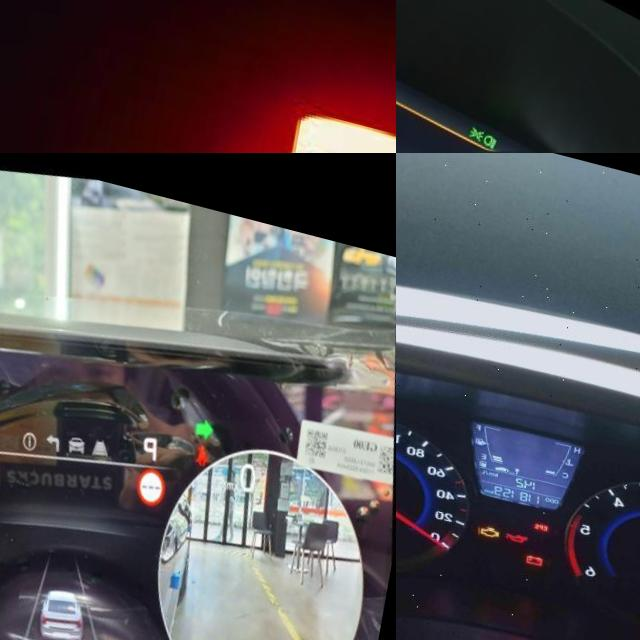Low beam: (489, 109, 508, 130)
SideLamp: (475, 102, 495, 125)
